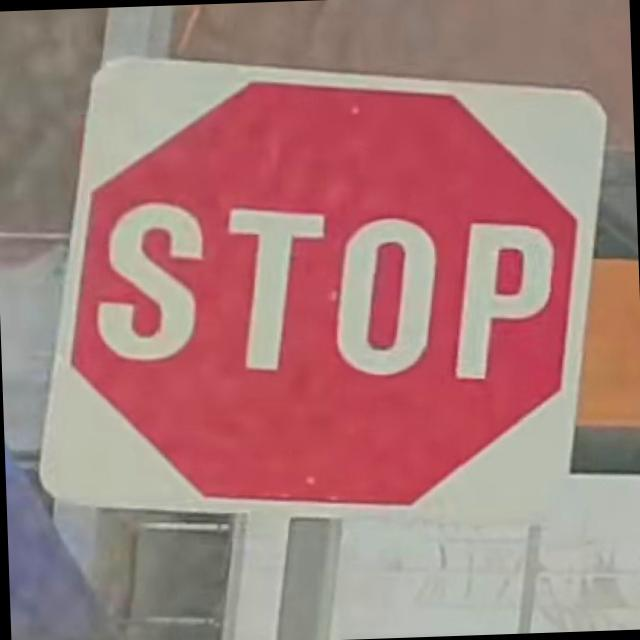mandatorystop_sign: (28, 40, 620, 528)
